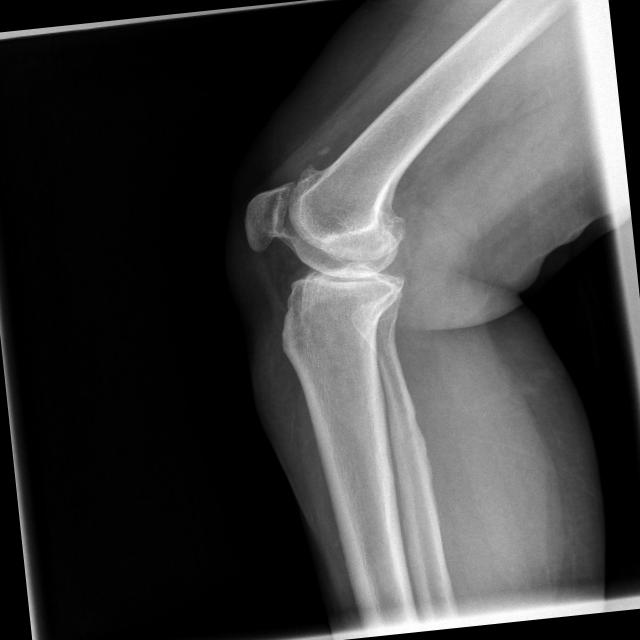Knee: (231, 166, 422, 362)
